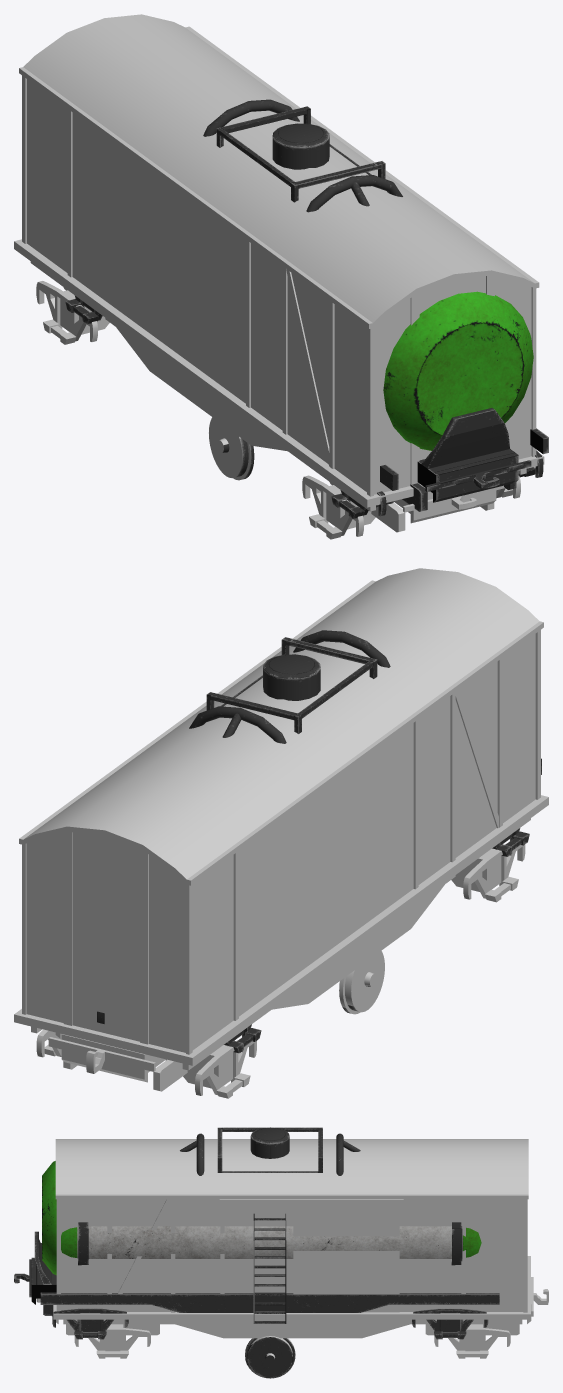
The model's file is train_wagons.fbx.
3 renders of one model, top to bottom at view 1: azimuth 30°, elevation 25°; view 2: azimuth 150°, elevation 25°; view 3: azimuth 270°, elevation 25°, orthographic. The views are drawn at different scales.
Parts seen in each view (by area): view 1: van2, van1, van2r; view 2: van2, van1, van2r; view 3: van2, van1, van1r.
Boxes of the visible parts, x1,y1,x2,y2 form: van2: (14,14,544,539); van1: (65,99,548,518); van2r: (209,417,250,480); van2: (14,568,548,1098); van1: (97,630,541,1053); van2r: (339,951,384,1014); van2: (36,1139,548,1358); van1: (14,1127,499,1339); van1r: (245,1337,295,1378).
Bounding box in the file's own units: 452 × 754 × 1651.
